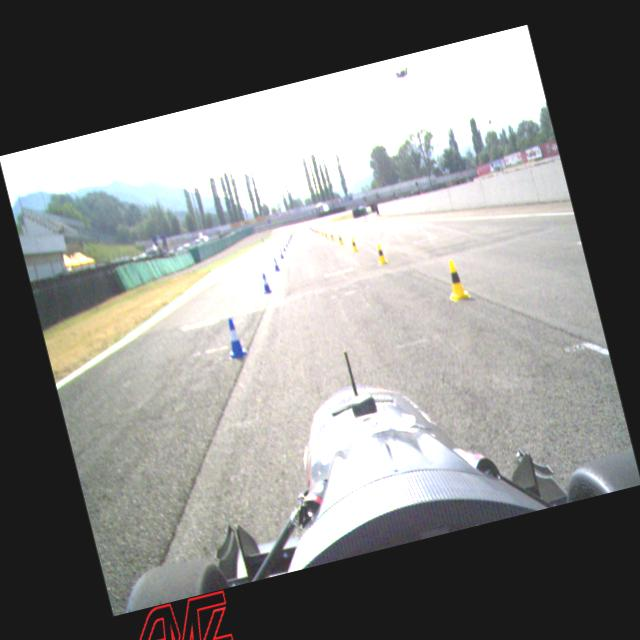blue_cone: (220, 314, 248, 361), (258, 270, 272, 294), (271, 256, 280, 272), (277, 247, 284, 259), (281, 242, 286, 252), (284, 238, 288, 248), (286, 236, 290, 244)
yellow_cone: (440, 256, 470, 302), (373, 241, 388, 265), (348, 235, 358, 252), (336, 232, 344, 245), (328, 230, 334, 240), (323, 229, 328, 238), (316, 228, 321, 235), (321, 230, 324, 236)
